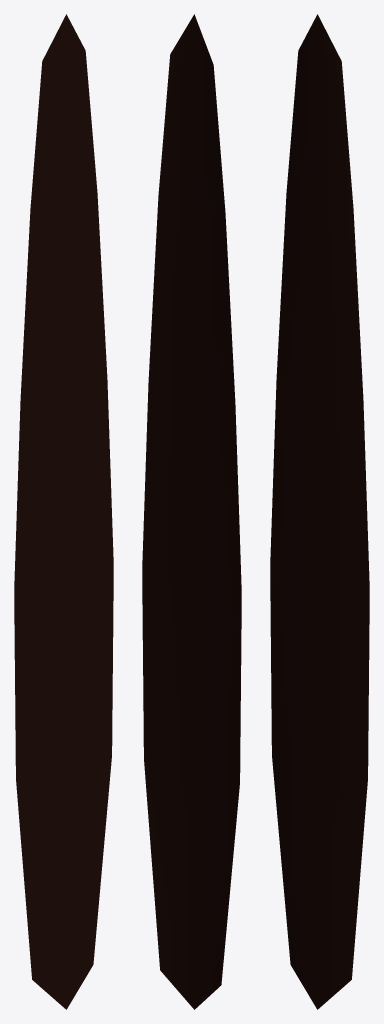
Rendered from pheasant_feather_flight_primary_006.obj.
The picture shows the model from 3 angles, left to right: view 1: azimuth 30°, elevation 25°; view 2: azimuth 150°, elevation 25°; view 3: azimuth 330°, elevation 25°; orthographic projection.
Visible parts, largest first — view 1: feather_flight_primary_006; view 2: feather_flight_primary_006; view 3: feather_flight_primary_006.
Boxes of the visible parts, x1,y1,x2,y2 form: feather_flight_primary_006: (14,14,113,1009); feather_flight_primary_006: (142,14,241,1009); feather_flight_primary_006: (270,14,369,1009).
Size of the model in its own units: 0.0147 by 0.1402 by 0.000951.
